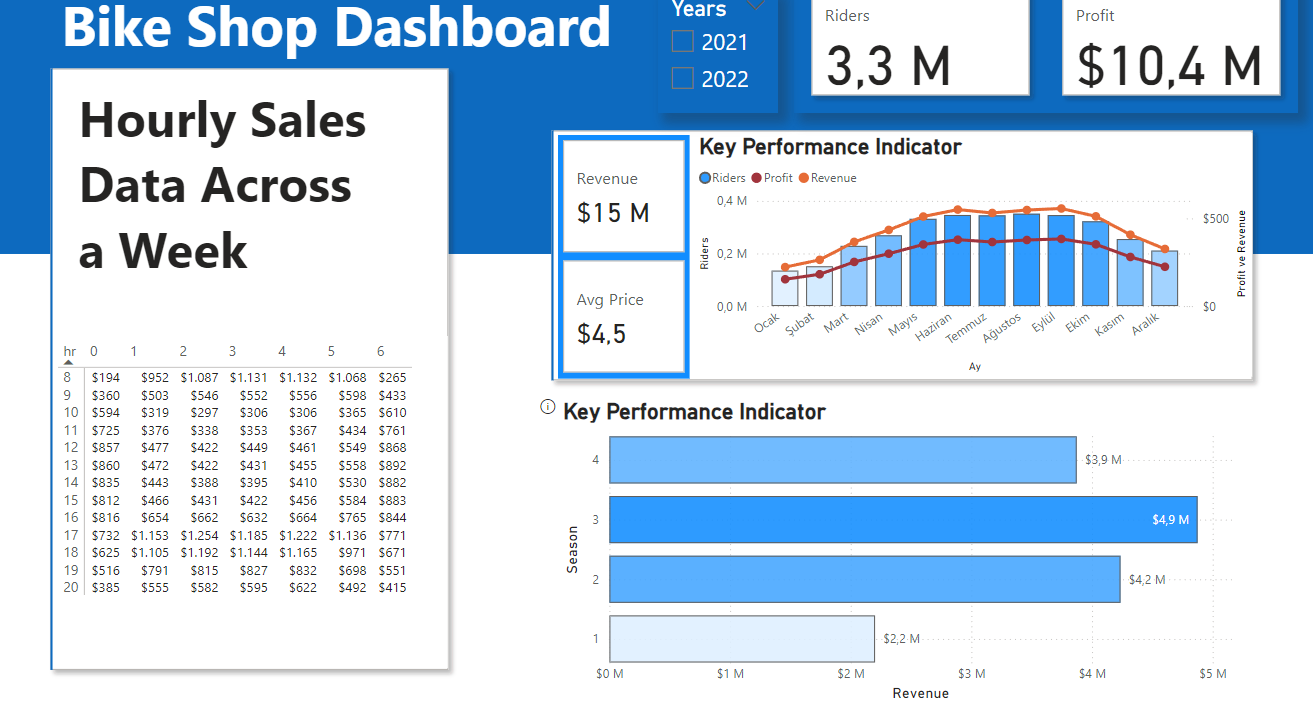

This screenshot's page, from the dashboard's own definition file:
{"tool":"powerbi","page":{"name":"1. sayfa","canvas":[1280,720],"ordinal":0},"visuals":[{"type":"shape","box":[0,0,1280,280.1],"z":0},{"type":"cardVisual","fields":{"Data":["Sum(Sorgu1.riders)"]},"box":[32.1,82.7,421.2,619.6],"z":1000},{"type":"cardVisual","fields":{"Data":["Sum(Sorgu1.riders)"]},"box":[519.4,143,716.8,277.2],"z":2000},{"type":"pivotTable","fields":{"Values":["Avg(Sorgu1.revenue)"],"Columns":["Sorgu1.weekday"],"Rows":["Sorgu1.hr"]},"box":[51.6,359.9,384.2,322.9],"z":3000},{"type":"textbox","box":[71,108.9,299.6,203.3],"z":4000},{"type":"lineClusteredColumnComboChart","title":"Key Performance Indicator","fields":{"Category":["Sorgu1.dteday.Varyasyon.Tarih Hiyerarşisi.Yıl","Sorgu1.dteday.Varyasyon.Tarih Hiyerarşisi.Ay","Sorgu1.dteday.Varyasyon.Tarih Hiyerarşisi.Gün"],"Y":["Sum(Sorgu1.riders)"],"Y2":["Avg(Sorgu1.profit)","Avg(Sorgu1.revenue)"]},"box":[675,162.4,542.7,237.3],"z":5000},{"type":"cardVisual","box":[517.4,412.4,716.8,307.4],"z":6000},{"type":"cardVisual","title":"Key Performance Indicator","fields":{"Data":["Sum(Sorgu1.revenue)","Avg(Sorgu1.price)"]},"box":[542.7,164.4,128.4,237.3],"z":7000},{"type":"cardVisual","fields":{"Data":["Sum(Sorgu1.riders)","Sum(Sorgu1.profit)"]},"box":[772.3,6.8,490.2,136.2],"z":8000},{"type":"textbox","box":[54.5,14.6,562.2,82.7],"z":9000},{"type":"slicer","fields":{"Values":["Sorgu1.years"]},"box":[640,23.3,116.7,119.6],"z":10000},{"type":"clusteredBarChart","title":"Key Performance Indicator","fields":{"Category":["Sorgu1.season"],"Y":["Sum(Sorgu1.revenue)"]},"box":[542.7,420.2,675,299.6],"z":11000}]}

Visuals, with their boxes on the page's 1280x720 design canvas (x1, y1, x2, y2). These are canvas units, not pixel positions in the 1313x703 screenshot, which may show the page scaled, cropped or inside an application window:
shape: region(0, 0, 1280, 280)
cardVisual - Sum(Sorgu1.riders): region(32, 83, 453, 702)
cardVisual - Sum(Sorgu1.riders): region(519, 143, 1236, 420)
pivotTable - Avg(Sorgu1.revenue) x Sorgu1.weekday: region(52, 360, 436, 683)
textbox: region(71, 109, 371, 312)
"Key Performance Indicator" lineClusteredColumnComboChart: region(675, 162, 1218, 400)
cardVisual: region(517, 412, 1234, 720)
"Key Performance Indicator" cardVisual: region(543, 164, 671, 402)
cardVisual - Sum(Sorgu1.riders) x Sum(Sorgu1.profit): region(772, 7, 1262, 143)
textbox: region(54, 15, 617, 97)
slicer - Sorgu1.years: region(640, 23, 757, 143)
"Key Performance Indicator" clusteredBarChart: region(543, 420, 1218, 720)
